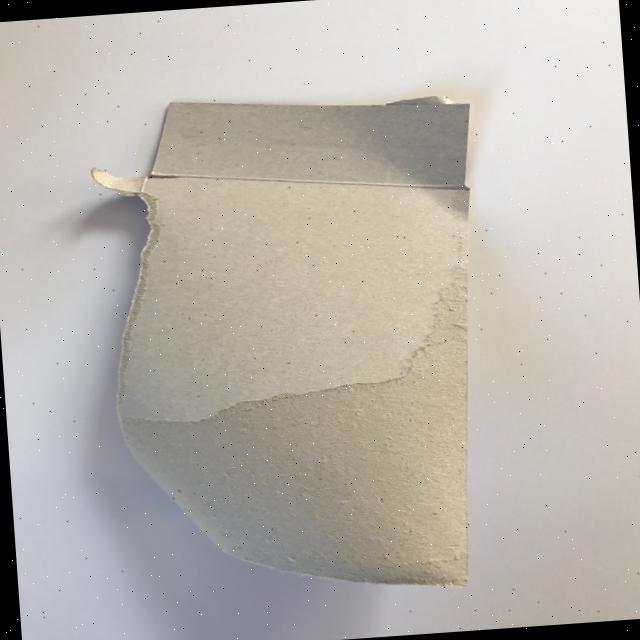paper: (86, 80, 504, 610)
